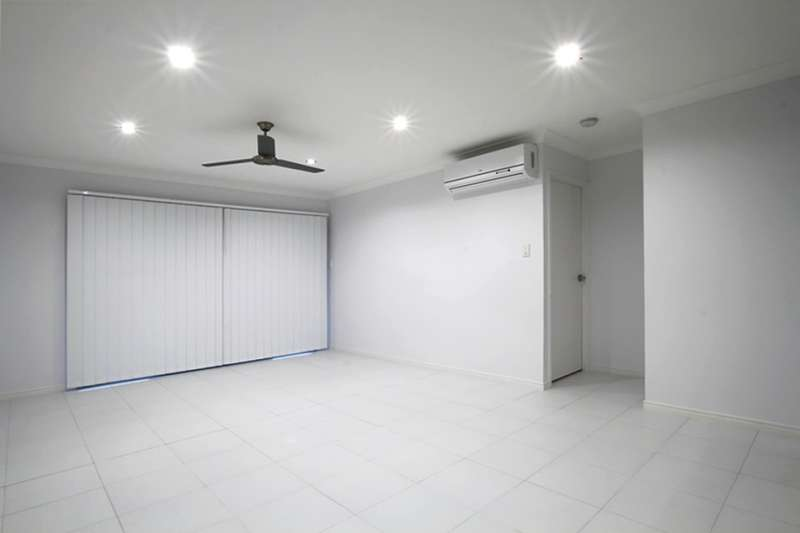ceiling fan: (191, 113, 336, 186)
